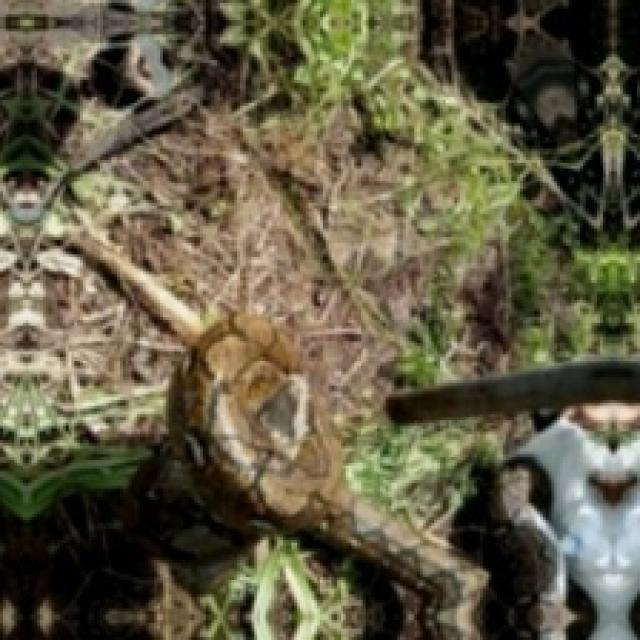reticulated python: (169, 314, 483, 637)
